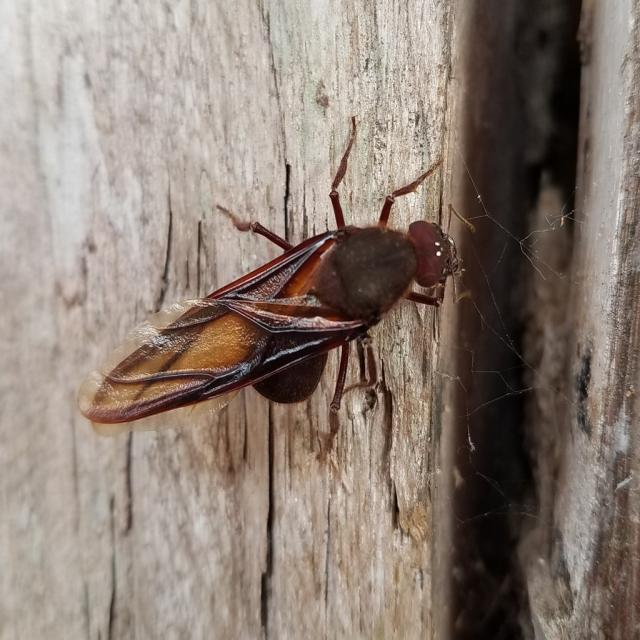Alive-Female-Alate: (77, 116, 476, 467)
